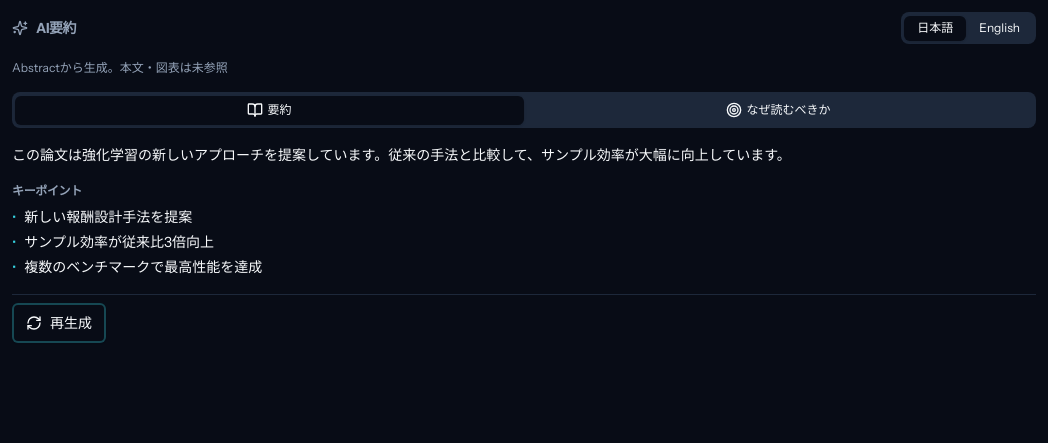
PaperSummary › 参照範囲の表示 › 正常系: 全文分析と誤認させる文言を表示しない
This screenshot has width=1048, height=443.
Note: 説明文タブに切り替えた後も同様
Click the tab "なぜ読むべきか".
click(778, 110)  # box [524,96,1033,124]
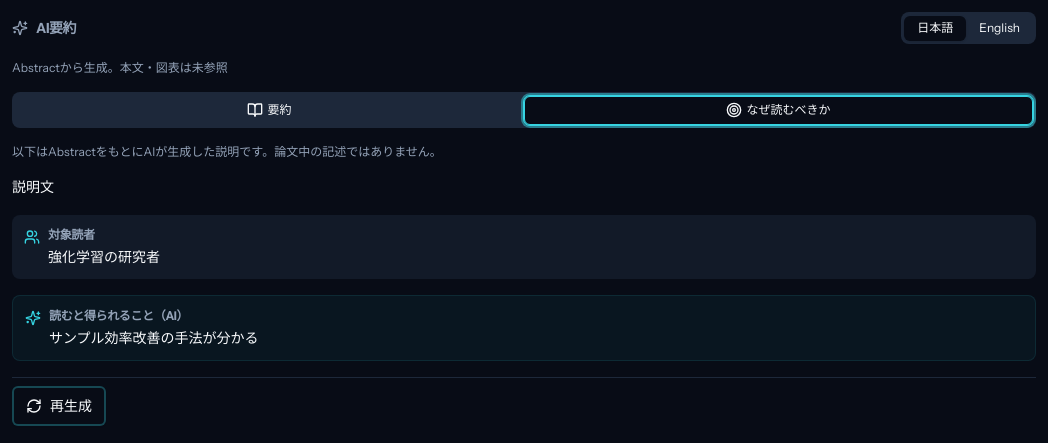
Result: the text "サンプル効率改善の手法が分かる" is shown at [49,328,259,348]
